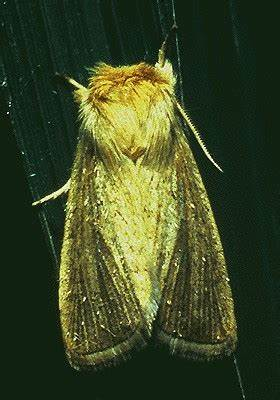Noctuidae: (29, 32, 236, 370)
